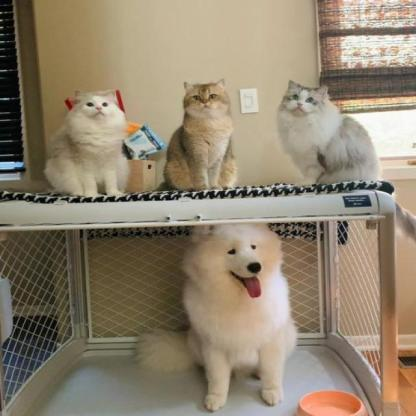cat: (37, 84, 135, 206), (278, 82, 378, 190), (167, 81, 243, 195)
dog: (164, 227, 297, 412)
